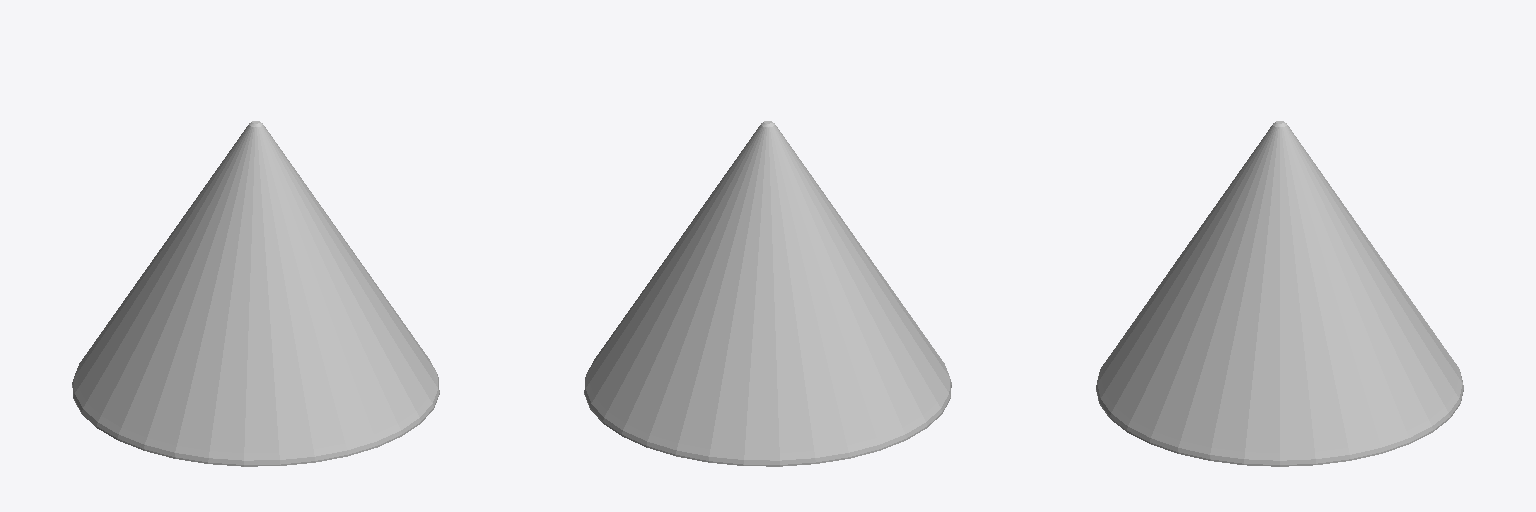
The model's file is Saturn V_1.obj.
3 renders of one model, left to right at view 1: azimuth 30°, elevation 25°; view 2: azimuth 150°, elevation 25°; view 3: azimuth 270°, elevation 25°, orthographic.
Visible parts, largest first — view 1: Apollo_Capsule_Cylinder.007; view 2: Apollo_Capsule_Cylinder.007; view 3: Apollo_Capsule_Cylinder.007.
Part boxes in pixels (x1,y1,x2,y2): Apollo_Capsule_Cylinder.007: (72, 121, 439, 466); Apollo_Capsule_Cylinder.007: (584, 121, 951, 466); Apollo_Capsule_Cylinder.007: (1096, 121, 1463, 466).
Size of the model in its own units: 3.91 by 3.13 by 3.91.